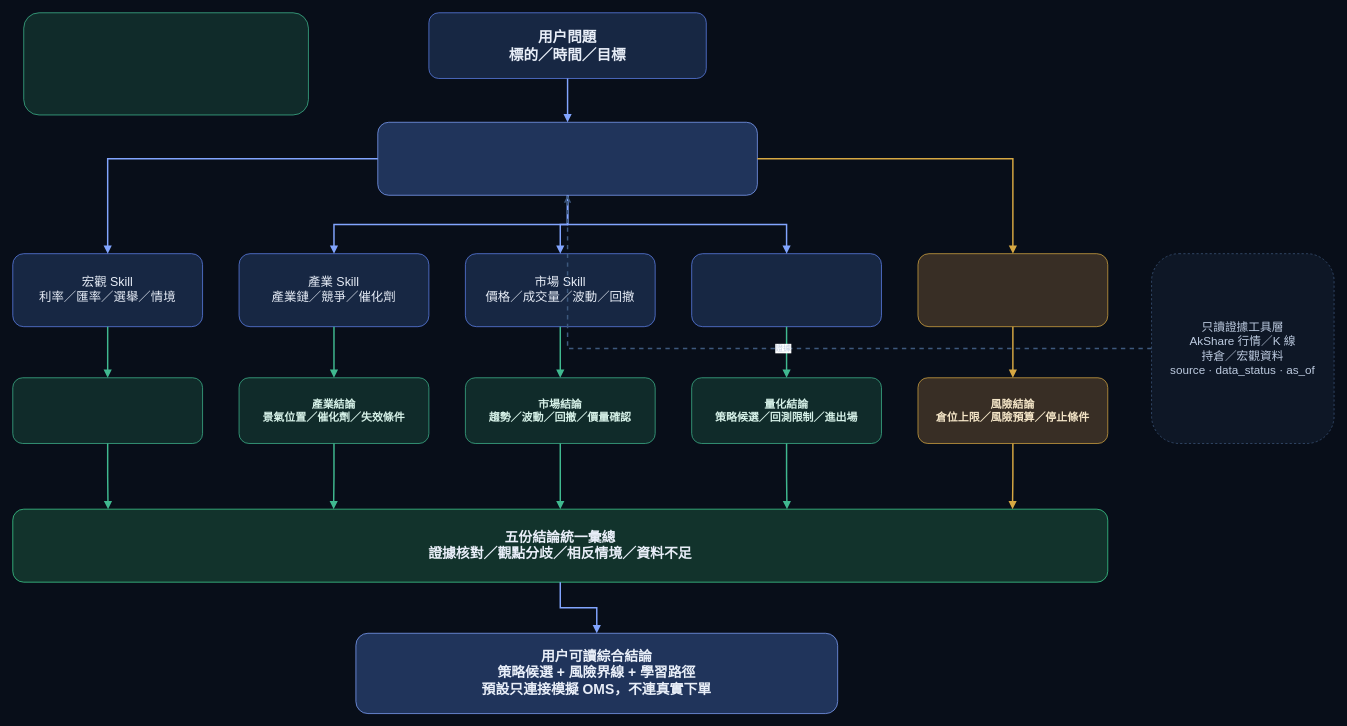
Image size: 1347x726. Some labels were removed from this diagram. The shapes that lost their labels are listed below. From the top down, each one's centre as x and y in pixels, then its label:
the point at 165,63: Harness 上下文輸入 對話上下文 + 長期記憶 只記錄用戶確認的偏好，可查看／刪除
the point at 567,158: Harness 協調器 多意圖識別／Skill 路由／權限／評測
the point at 786,290: 量化 Skill 因子／回測／進出場／失效
the point at 1012,290: 風險 Skill 集中度／流動性／最大回撤
the point at 107,410: 宏觀結論 政策情境／資產影響／關鍵假設
